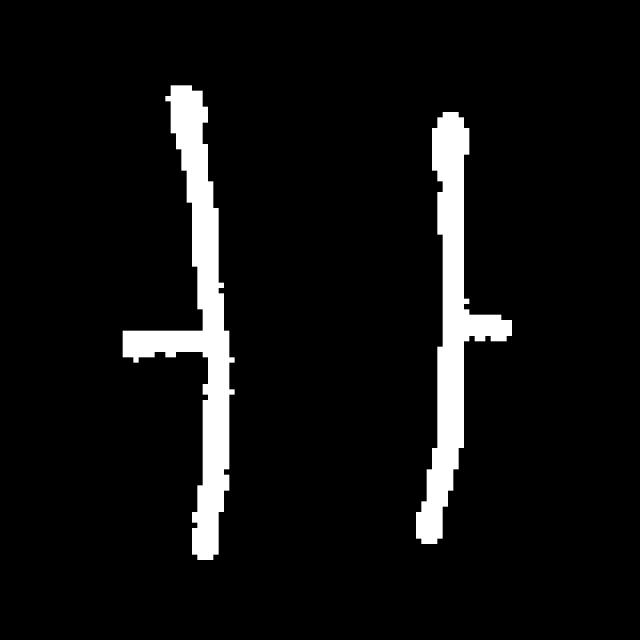capacitor: (161, 67, 474, 574)
